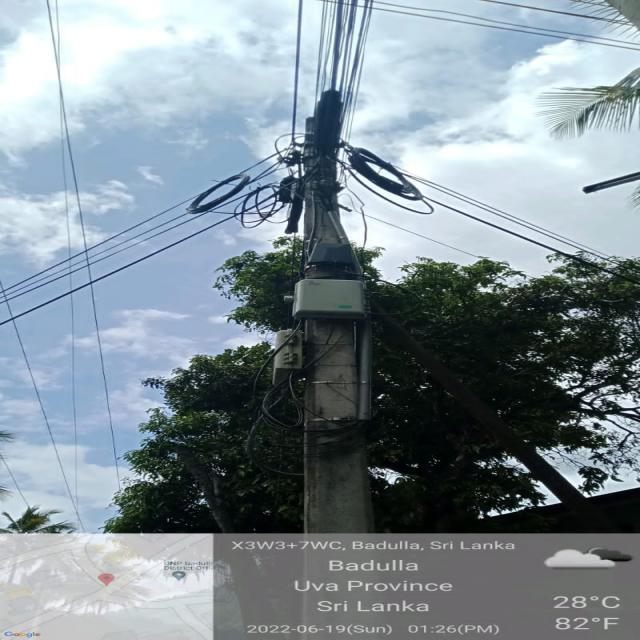light_pole: (262, 84, 404, 541)
